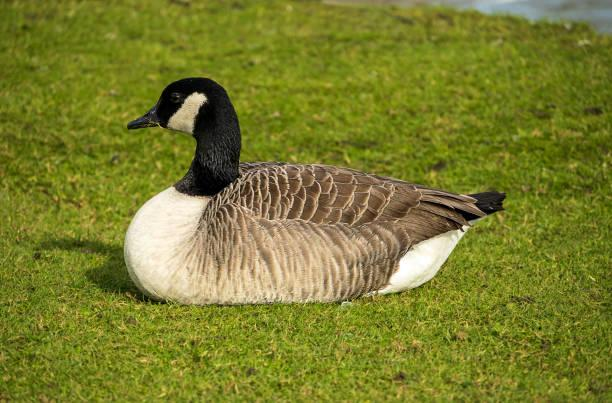Canadian-Goose: (120, 75, 504, 300)
